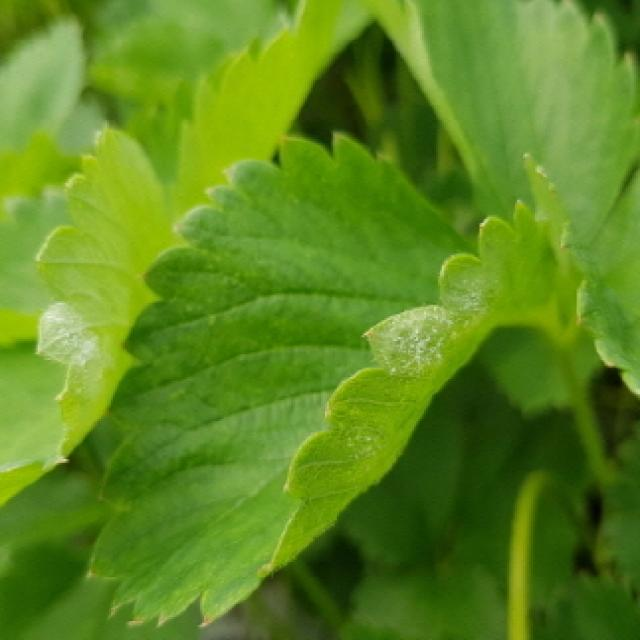Powdery Mildew Leaf: (84, 128, 577, 630)
